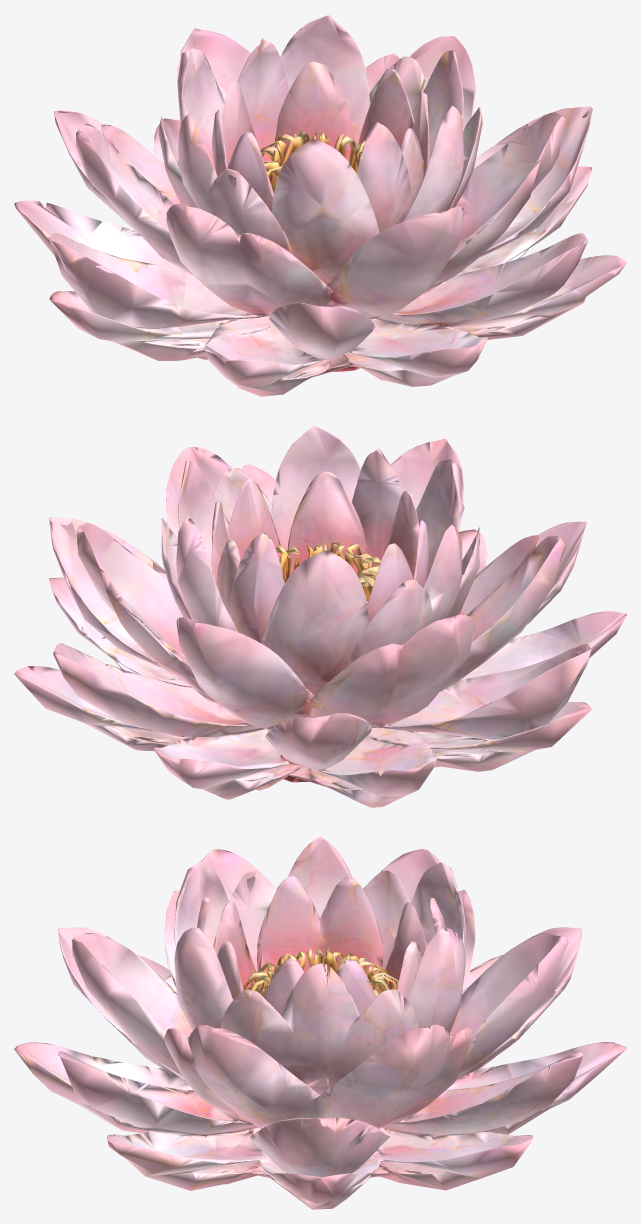
3 renders of one model, top to bottom at view 1: azimuth 30°, elevation 25°; view 2: azimuth 150°, elevation 25°; view 3: azimuth 270°, elevation 25°, orthographic. The views are drawn at different scales.
Size of the model in its own units: 1.9 by 0.9085 by 1.89.
Materials: 1 (1 with a texture image).
